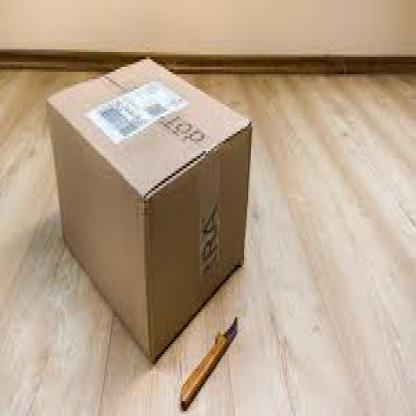paquete: (38, 30, 257, 374)
